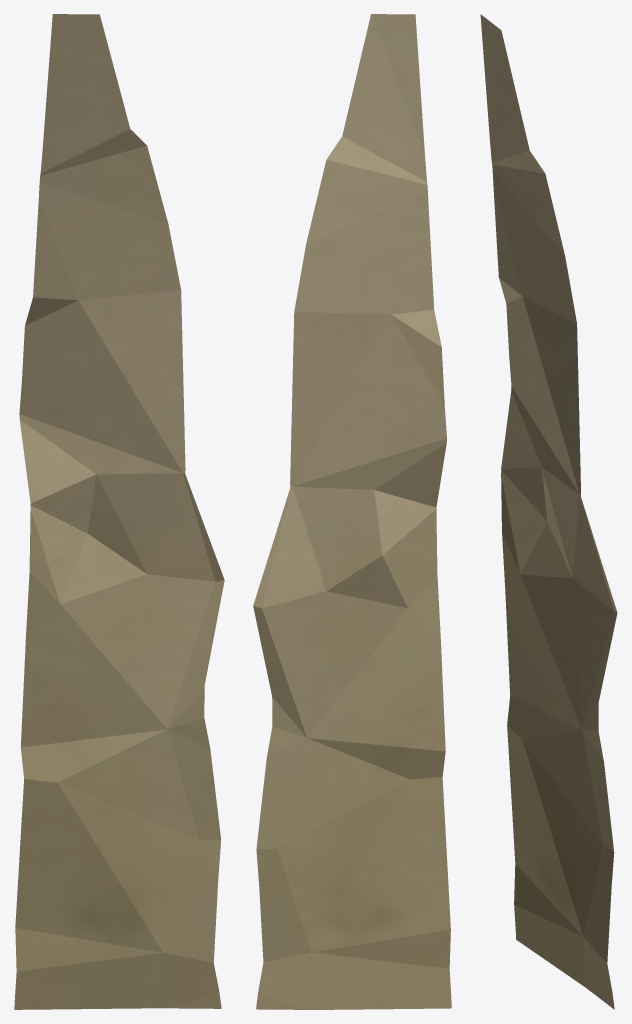
The picture shows the model from 3 angles, left to right: view 1: azimuth 30°, elevation 25°; view 2: azimuth 210°, elevation 25°; view 3: azimuth 330°, elevation 25°; orthographic projection. The views are drawn at different scales.
Bounding box in the file's own units: 0.1366 × 0.8373 × 0.0752.
1 material, 1 textured.
